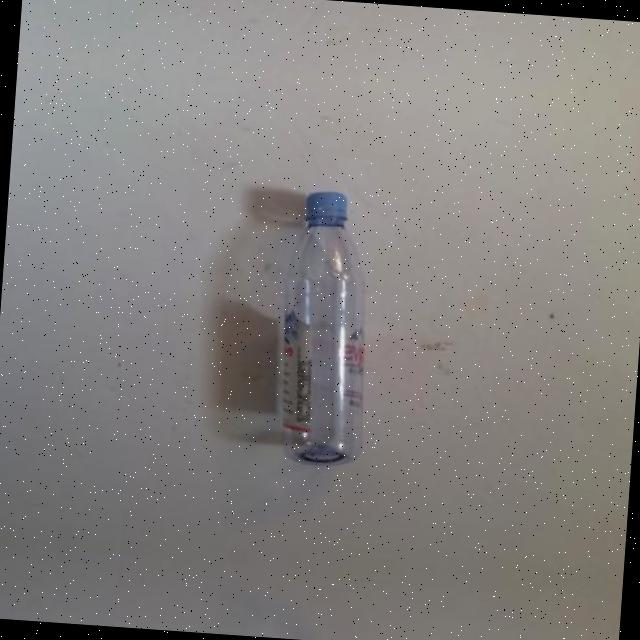Plastic: (264, 170, 381, 492), (254, 628, 349, 640)
